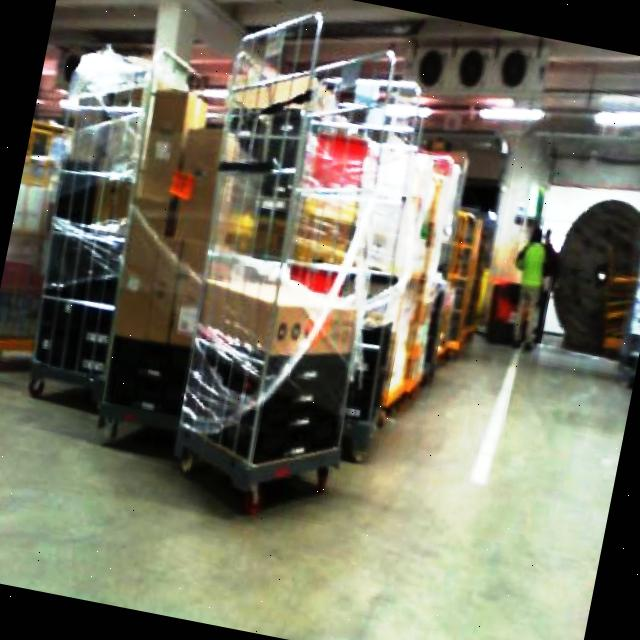ground: (0, 227, 639, 640)
pallet: (147, 0, 445, 534), (78, 46, 249, 456), (8, 41, 169, 412), (0, 115, 78, 379), (426, 207, 493, 364), (587, 240, 640, 358), (614, 246, 640, 384)
